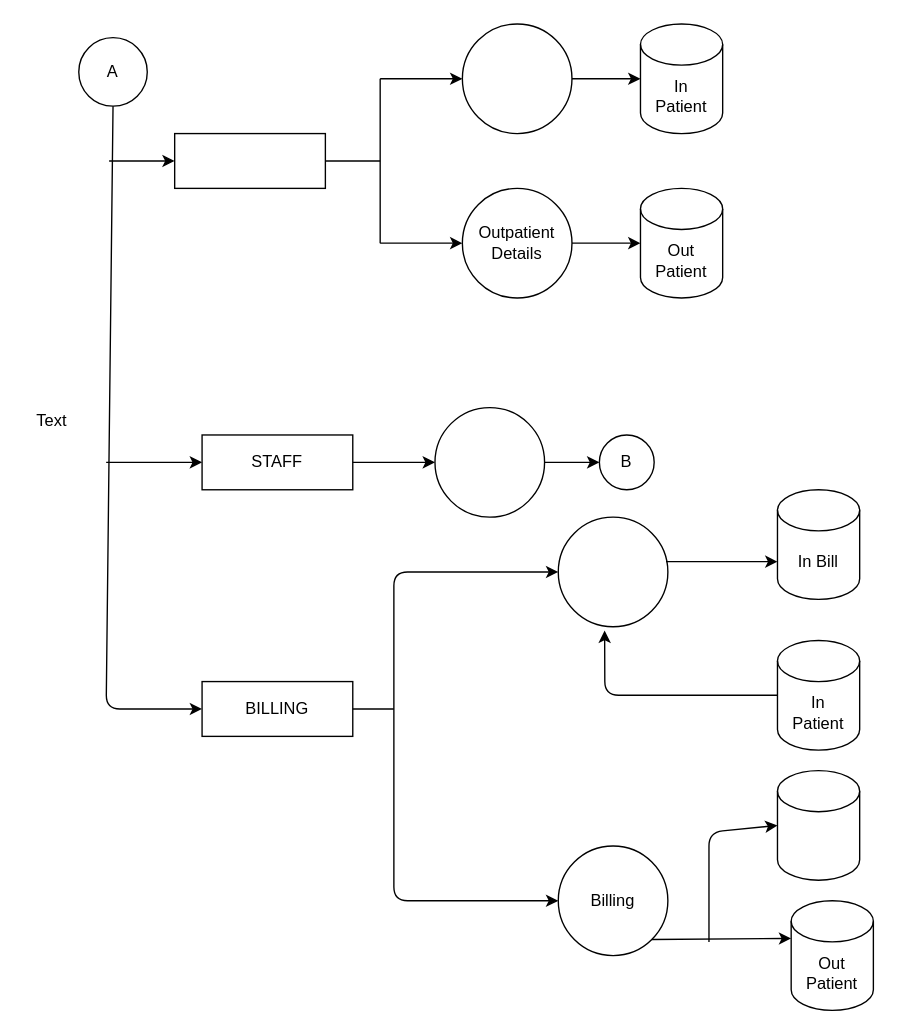
Some shapes in this 897 by 1034 pixel diagram are drawn without their labels. Here are the shapes that lost their labels. From the top down, the centre of each, then its label:
At (516,78): "Inpatient Details".
At (249,160): "ADMISSION".
At (489,461): "Staff Details".
At (612,571): "Inpatient Bill".
At (818,824): "Bill".
